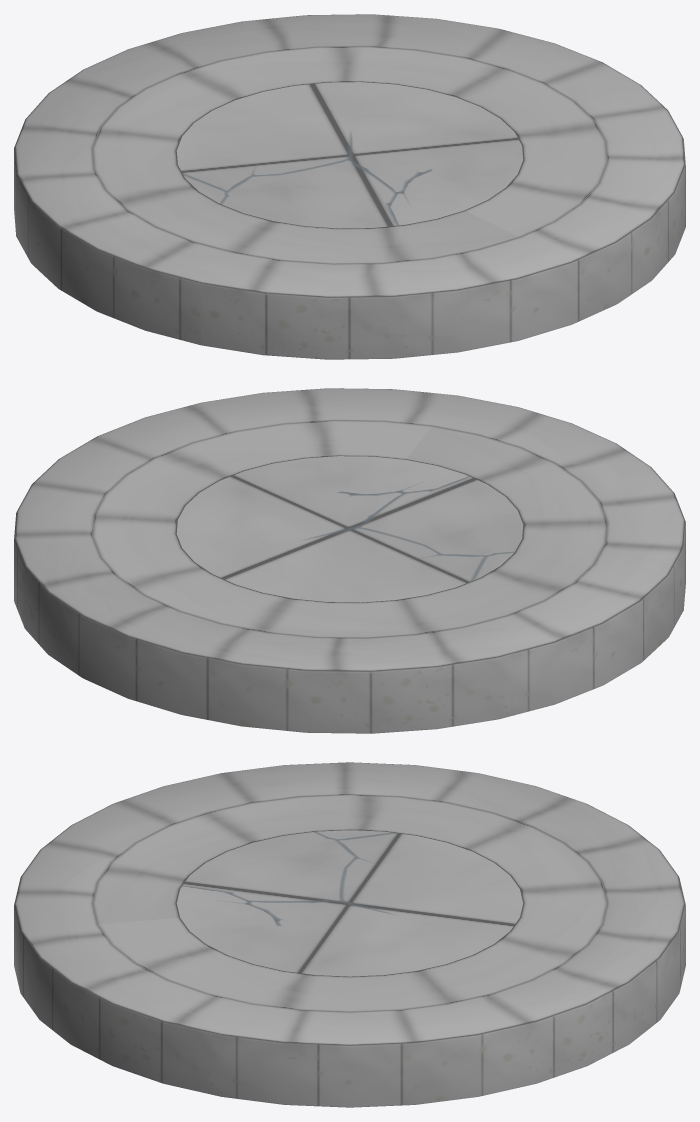
The model's file is Trim_Stone_CircularPlatform01.fbx.
3 views of the same model, one above another, from view 1: azimuth 30°, elevation 25°; view 2: azimuth 150°, elevation 25°; view 3: azimuth 270°, elevation 25° (orthographic).
Visible parts, largest first — view 1: Trim_Stone_CircularPlatform01; view 2: Trim_Stone_CircularPlatform01; view 3: Trim_Stone_CircularPlatform01.
Part boxes in pixels (<box>): Trim_Stone_CircularPlatform01: <box>14,14,685,359</box>; Trim_Stone_CircularPlatform01: <box>14,388,685,733</box>; Trim_Stone_CircularPlatform01: <box>14,762,685,1107</box>.
Size of the model in its own units: 518 by 53.01 by 518.
